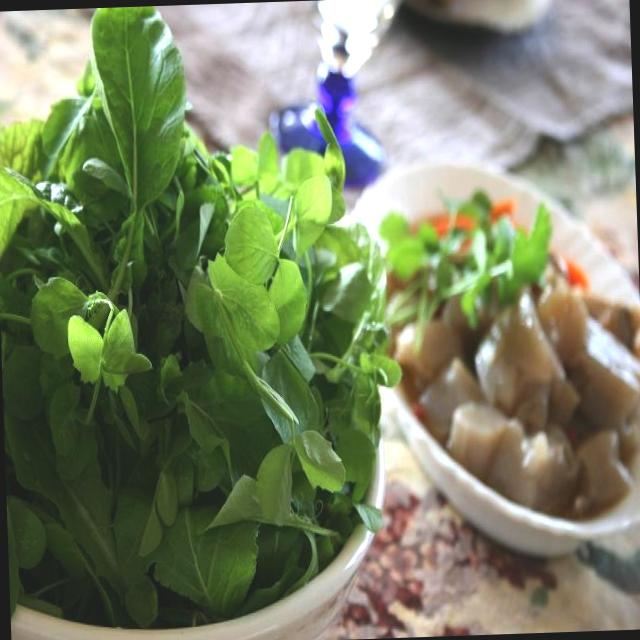Green Salad: (0, 23, 399, 588)
